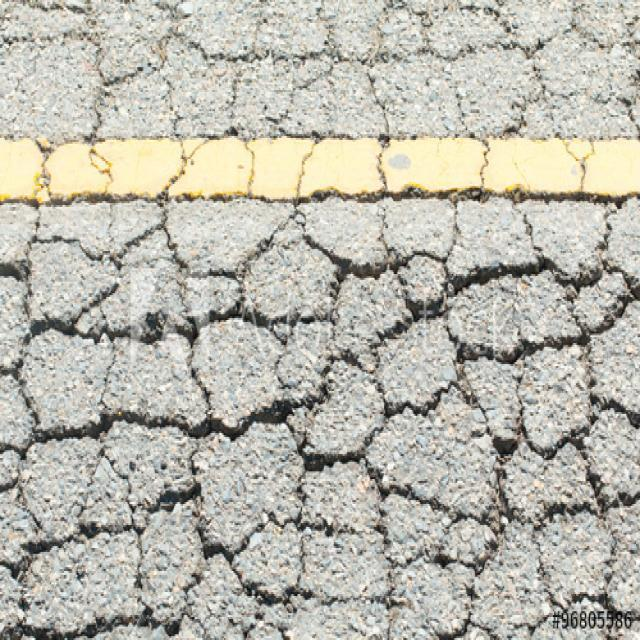Pothole: (128, 312, 174, 349)
